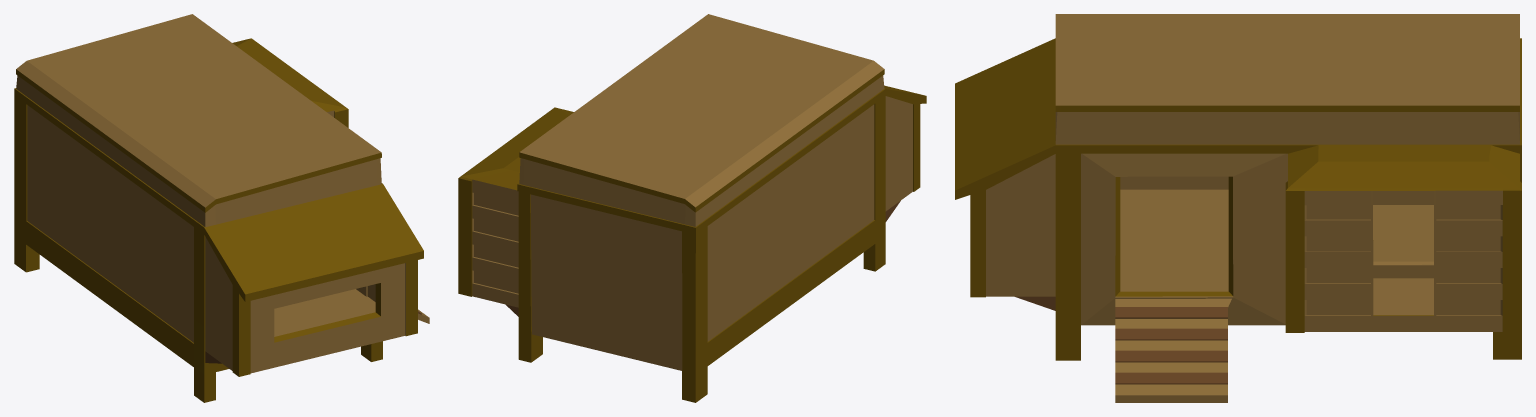
Rendered from props nh.fbx huhn home.fbx.
3 views of the same model, side by side, from view 1: azimuth 30°, elevation 25°; view 2: azimuth 150°, elevation 25°; view 3: azimuth 270°, elevation 25° (orthographic). The views are drawn at different scales.
Visible parts, largest first — view 1: Würfel.002; view 2: Würfel.002; view 3: Würfel.002.
Part boxes in pixels (box(x1,y1,x2,y2)): Würfel.002: box(14, 14, 429, 402); Würfel.002: box(458, 14, 926, 402); Würfel.002: box(955, 14, 1521, 402).
Size of the model in its own units: 283 by 224 by 453.
